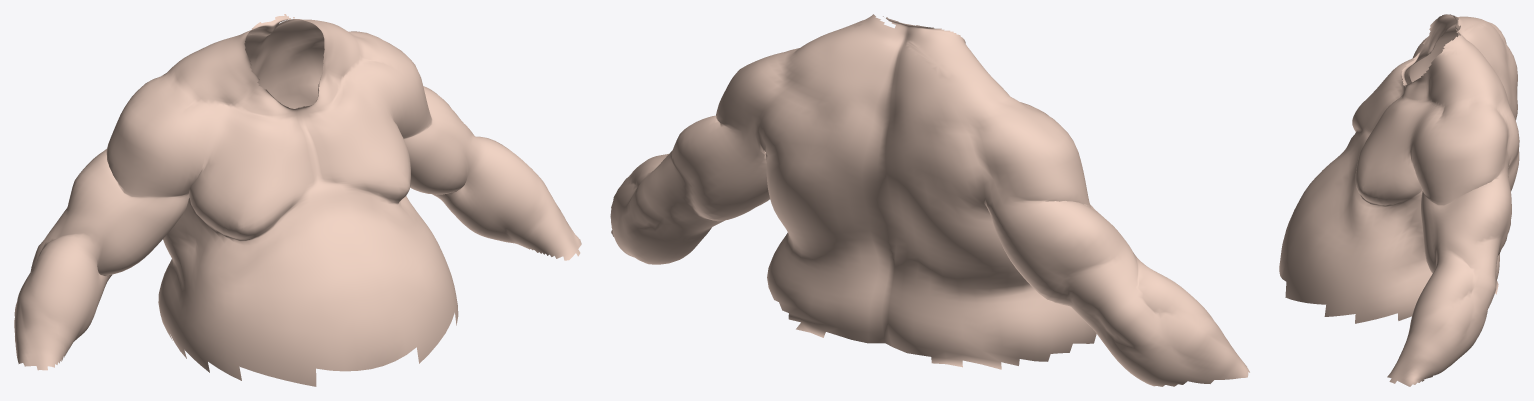
File: S_Body.fbx
The picture shows the model from 3 angles, left to right: view 1: azimuth 30°, elevation 25°; view 2: azimuth 150°, elevation 25°; view 3: azimuth 270°, elevation 25°; orthographic projection. The views are drawn at different scales.
Visible parts, largest first — view 1: S_Body; view 2: S_Body; view 3: S_Body.
Boxes of the visible parts, x1=… form: S_Body: x1=14, y1=14, x2=581, y2=386; S_Body: x1=610, y1=14, x2=1249, y2=386; S_Body: x1=1279, y1=14, x2=1519, y2=386.
Bounding box in the file's own units: 0.929 × 2.21 × 1.08.
